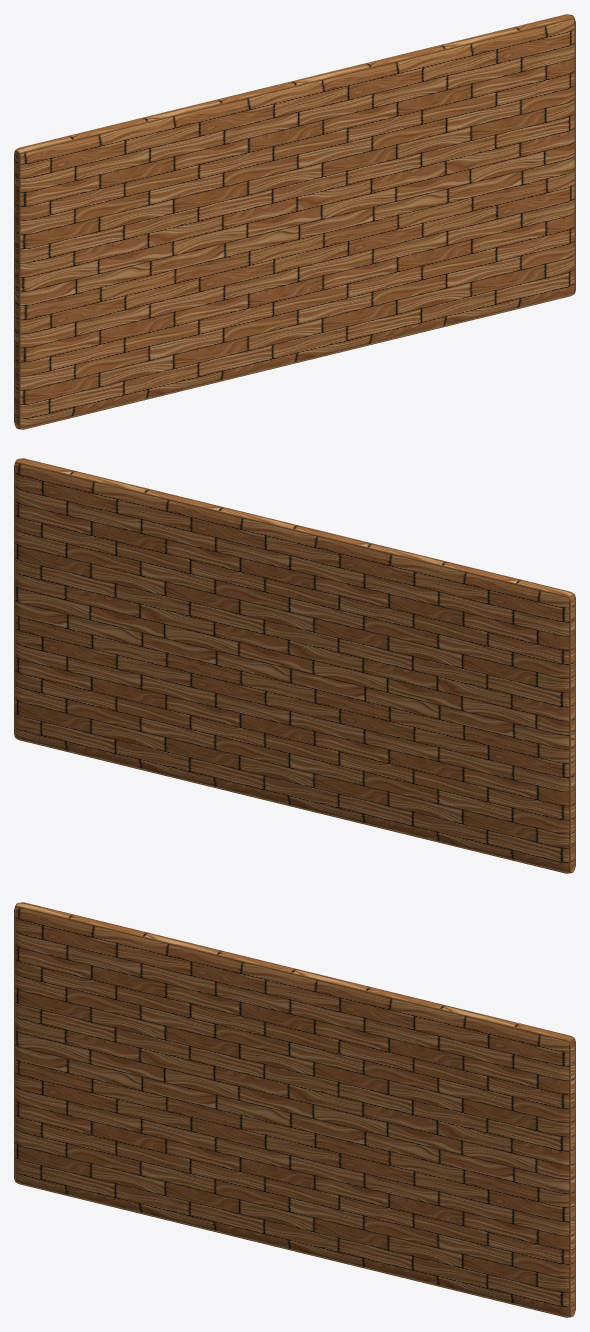
Rendered from SM_FoamWall_2x4.fbx.
3 views of the same model, one above another, from view 1: azimuth 30°, elevation 25°; view 2: azimuth 150°, elevation 25°; view 3: azimuth 330°, elevation 25° (orthographic).
Parts seen in each view (by area): view 1: SM_SoftFoam_Wall_10_2x4; view 2: SM_SoftFoam_Wall_10_2x4; view 3: SM_SoftFoam_Wall_10_2x4.
Part boxes in pixels (<box>): SM_SoftFoam_Wall_10_2x4: <box>14,14,575,429</box>; SM_SoftFoam_Wall_10_2x4: <box>14,458,575,873</box>; SM_SoftFoam_Wall_10_2x4: <box>14,902,575,1317</box>.
Size of the model in its own units: 383 by 183 by 10.
